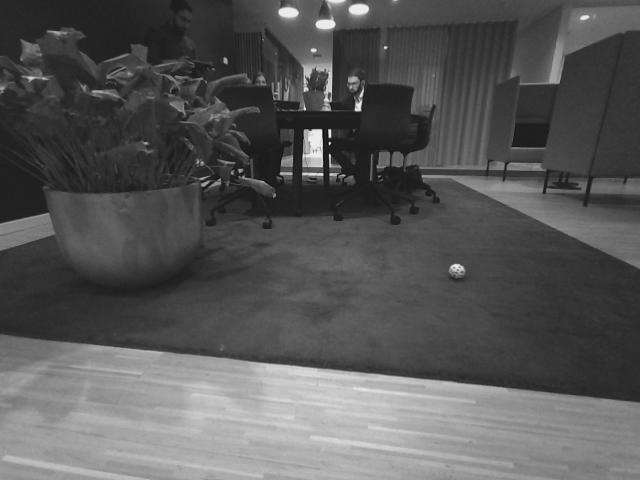dogtoy: (443, 260, 472, 286)
